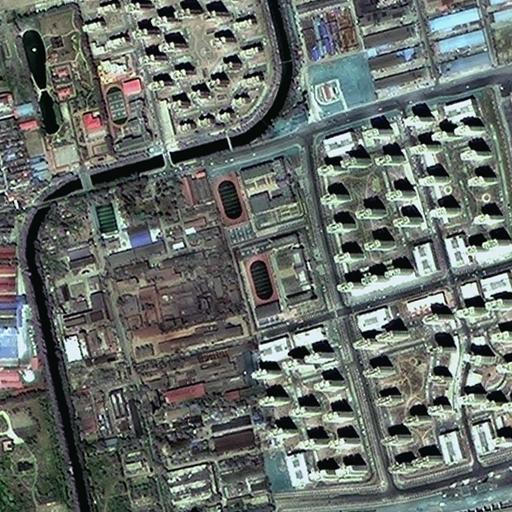school: (206, 145, 313, 246), (234, 225, 332, 333), (101, 74, 154, 157)
